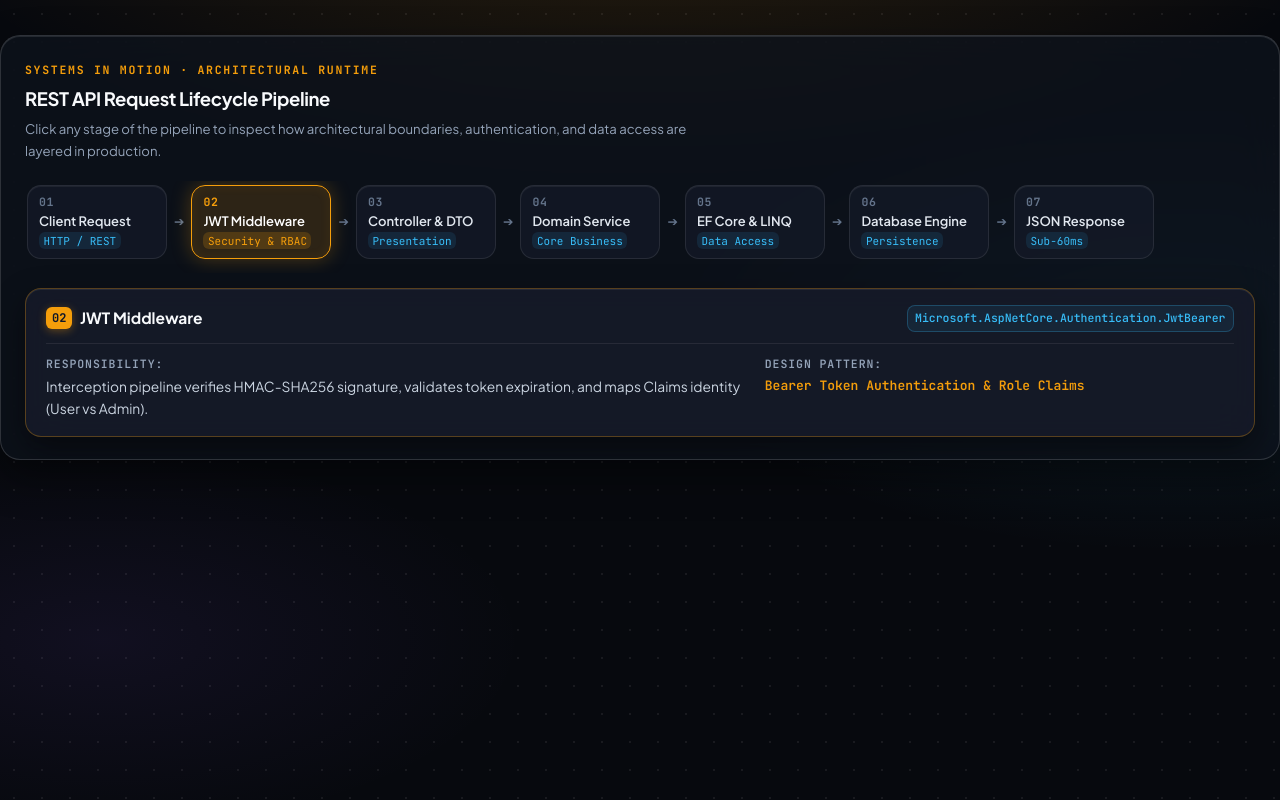
renders request pipeline stages and details without scrolling window on mount
Expected: the heading "REST API Request Lifecycle Pipeline" is shown, [25,87,330,110]
Expected: the tab "02 JWT Middleware Security & RBAC" is shown, [192,185,332,259]
Switching stages updates inspector details
Step 1. Click the tab "03 Controller & DTO Presentation" → click(426, 222), box [356,185,496,259]
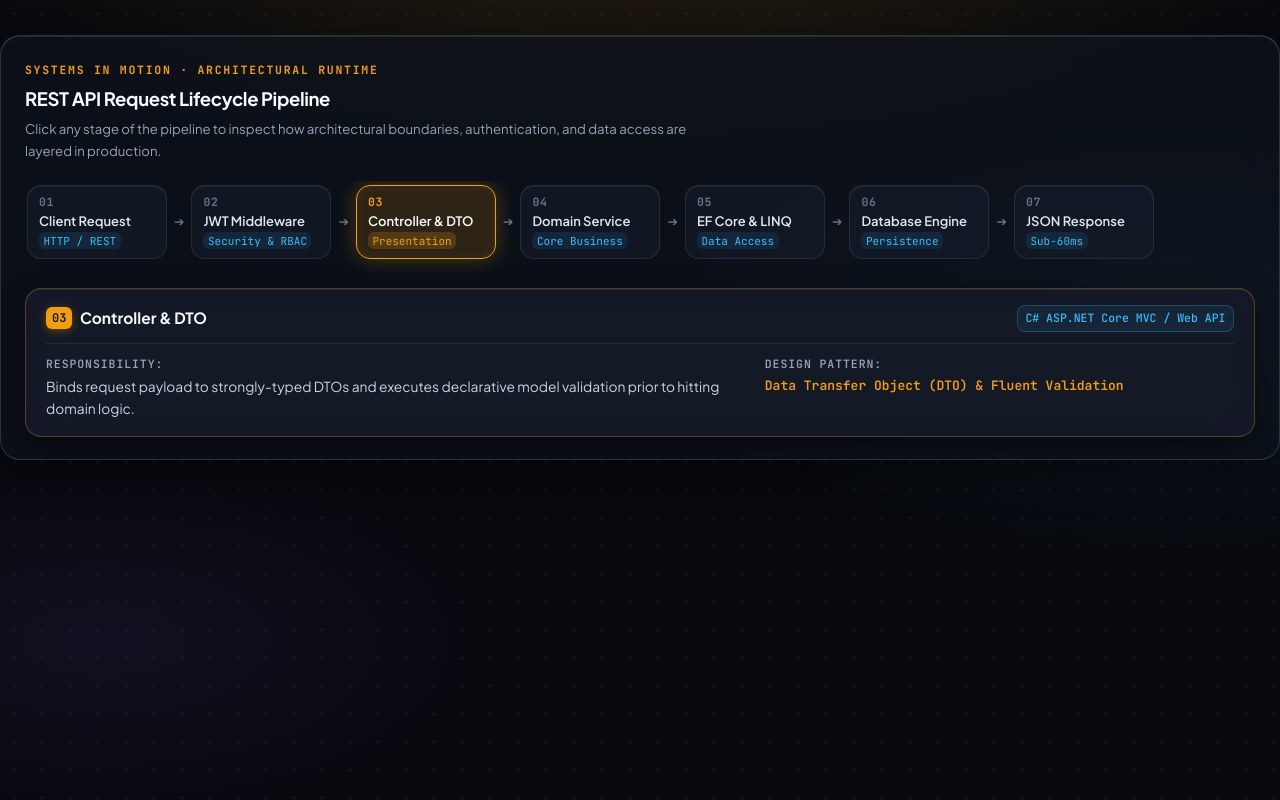
Now the text "Data Transfer Object (DTO) & Fluent Validation" is shown, box [765,377,1124,394]
